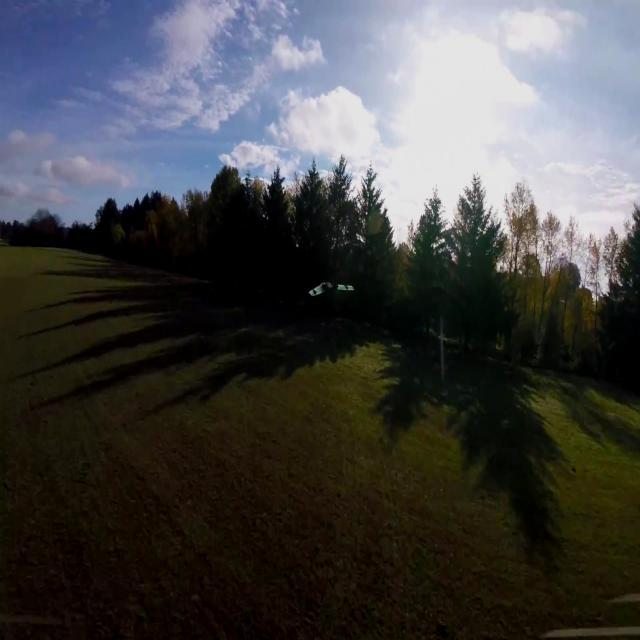iha: (301, 279, 349, 298)
